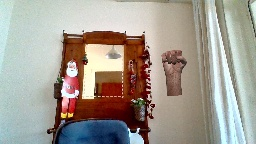Pugno: (158, 48, 188, 75)
